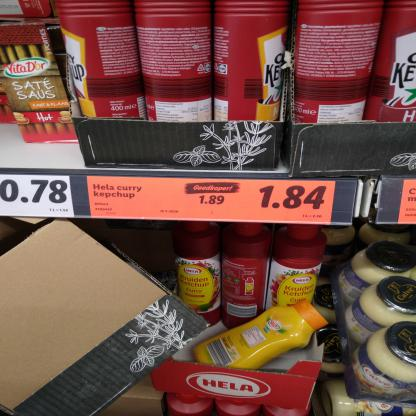prtg: (88, 176, 337, 225), (1, 175, 76, 219), (399, 181, 416, 225)
